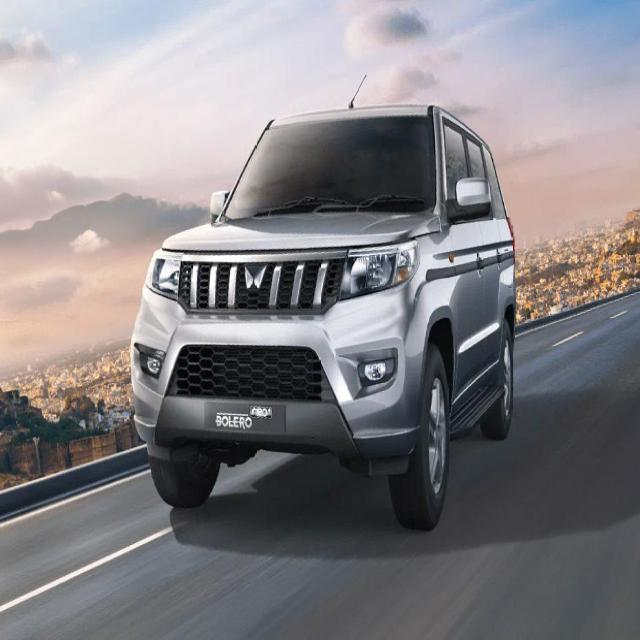light_vehicle: (126, 91, 515, 521)
